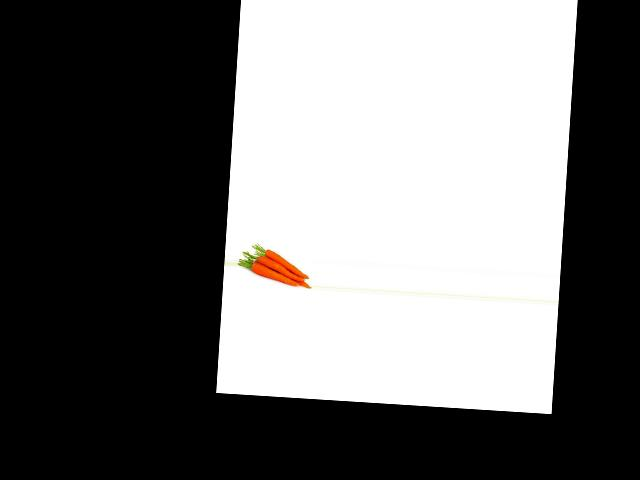carrot: (245, 262, 300, 288)
